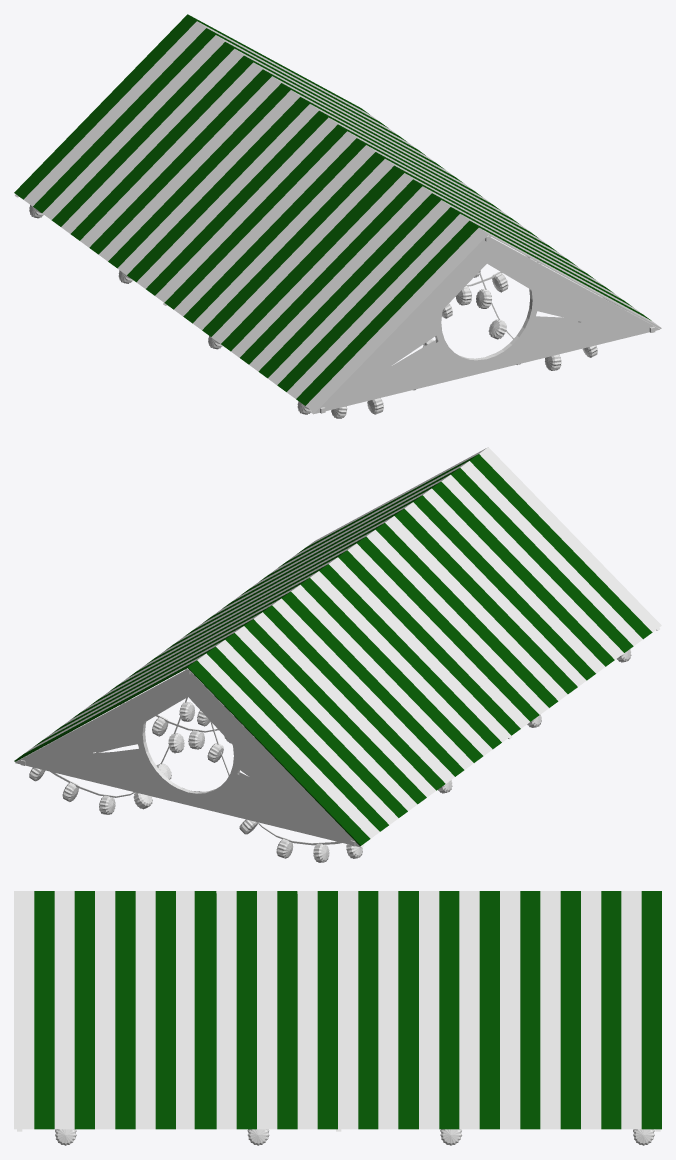
The model's file is techodecorado.fbx.
The picture shows the model from 3 angles, top to bottom: view 1: azimuth 30°, elevation 25°; view 2: azimuth 150°, elevation 25°; view 3: azimuth 270°, elevation 25°; orthographic projection. The views are drawn at different scales.
Parts seen in each view (by area): view 1: Techo, Estructura central, Cylinder; view 2: Techo, Estructura central, Cylinder, Cables; view 3: Techo, Cylinder.
Part boxes in pixels (<box>): Techo: <box>14,14,661,412</box>; Estructura central: <box>15,194,659,414</box>; Cylinder: <box>29,205,597,418</box>; Techo: <box>14,447,661,845</box>; Estructura central: <box>15,628,659,847</box>; Cylinder: <box>29,649,631,862</box>; Cables: <box>50,697,341,845</box>; Techo: <box>14,891,661,1129</box>; Cylinder: <box>55,1129,654,1145</box>.
Bounding box in the file's own units: 400 × 600 × 193.
